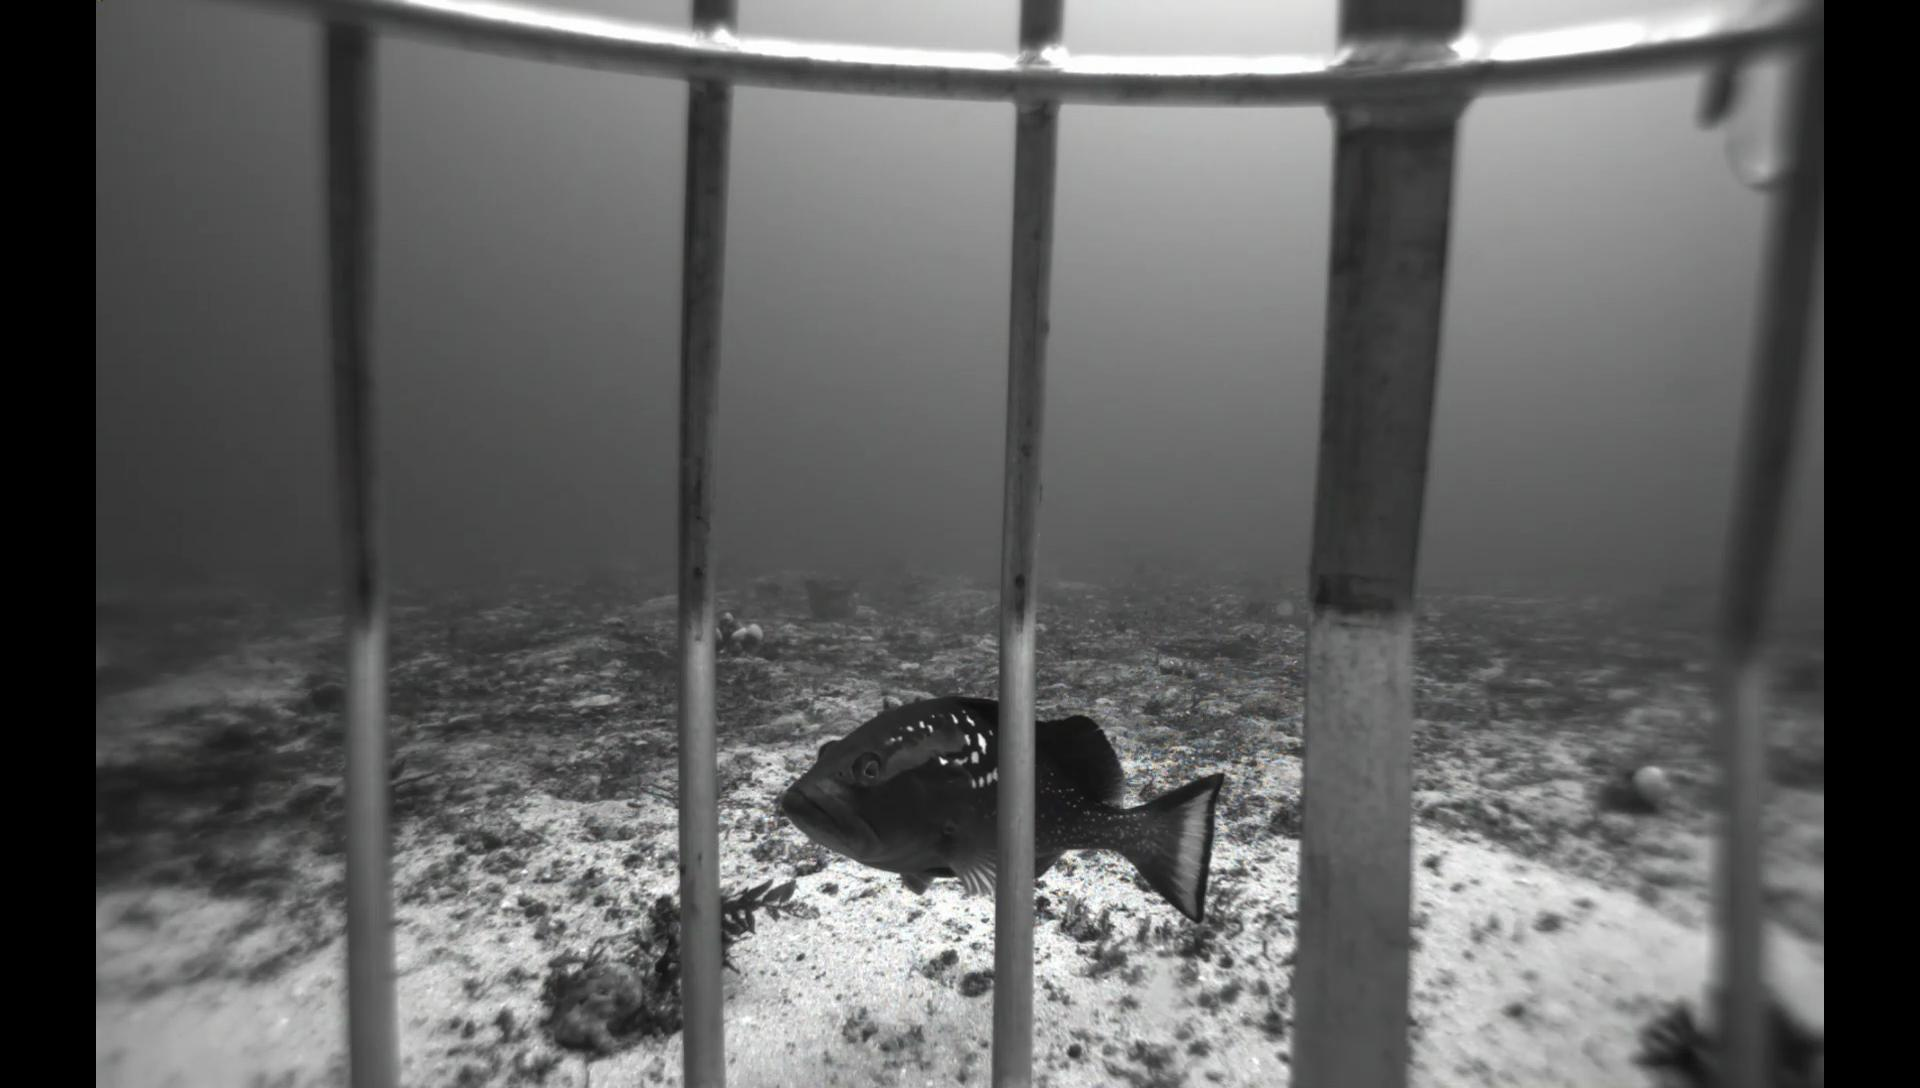CHAETODONOCELLATUS-170260307: (1267, 595, 1300, 621)
EPINEPHELUSMORIO-170021211: (762, 684, 1236, 935)
PRISTIGENYSALTA-170050401: (291, 677, 342, 719)
